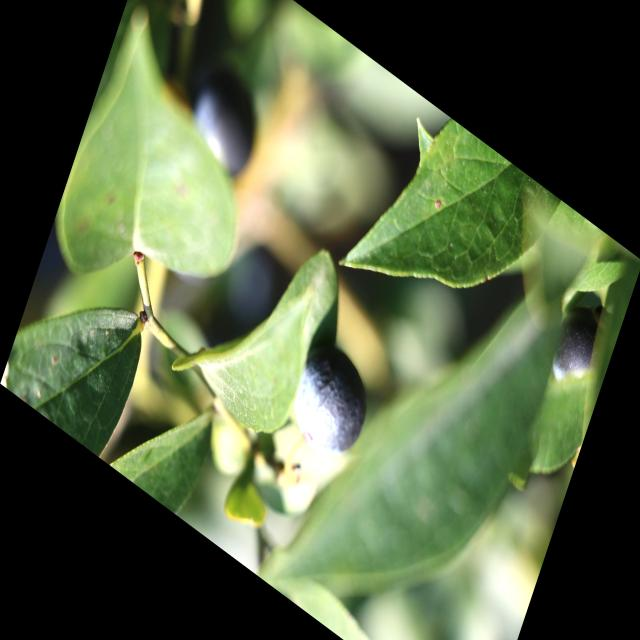blueberry: (280, 325, 381, 477), (174, 46, 272, 198), (541, 278, 618, 410)
